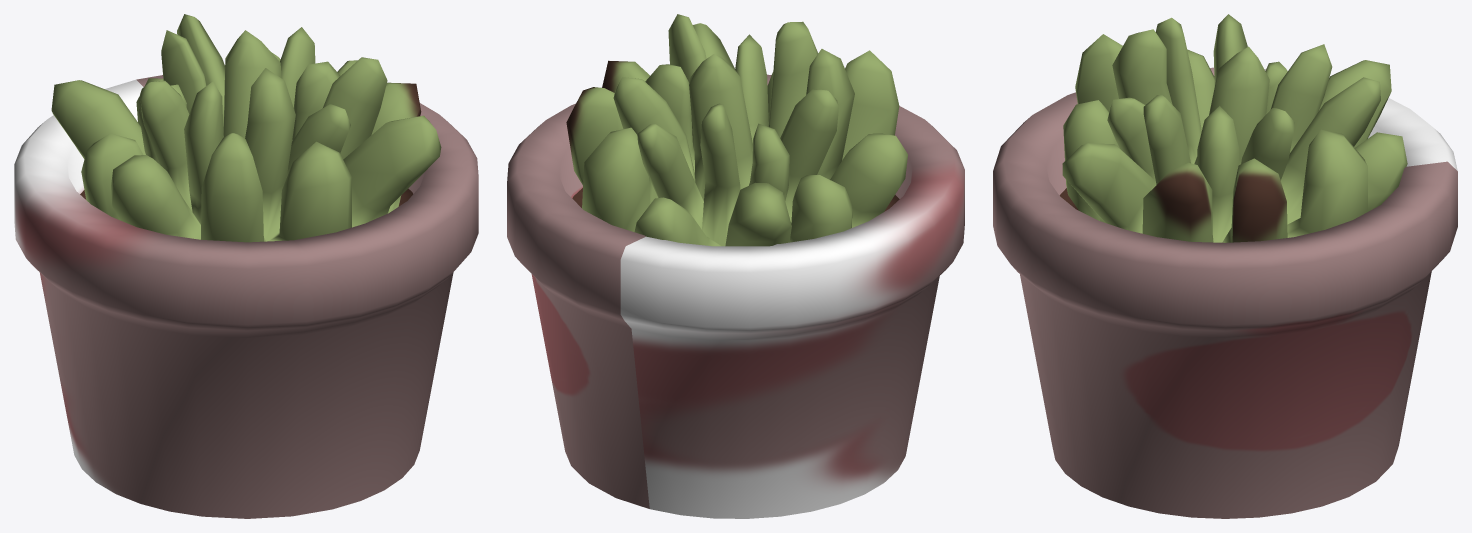
The model's file is MOD_Knobbelplant_V1.fbx.
3 views of the same model, side by side, from view 1: azimuth 30°, elevation 25°; view 2: azimuth 150°, elevation 25°; view 3: azimuth 270°, elevation 25° (orthographic).
Visible parts, largest first — view 1: Cylinder.002; view 2: Cylinder.002; view 3: Cylinder.002.
Boxes of the visible parts, bbox=[...] form: Cylinder.002: bbox=[14, 14, 478, 518]; Cylinder.002: bbox=[507, 14, 964, 518]; Cylinder.002: bbox=[993, 14, 1457, 518].
Size of the model in its own units: 158 by 153 by 158.
